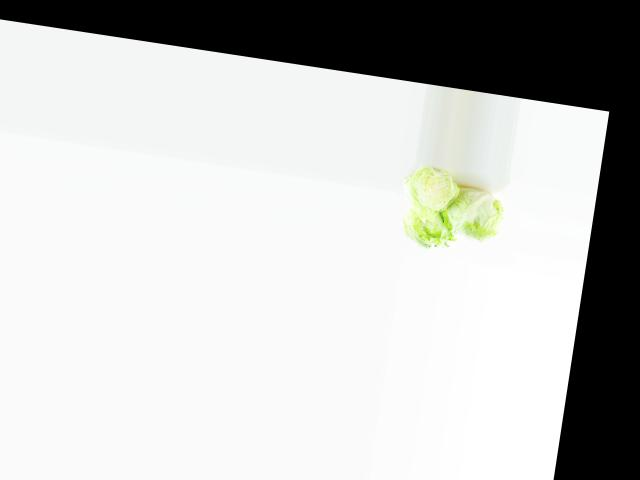lettuce: (396, 200, 463, 257)
